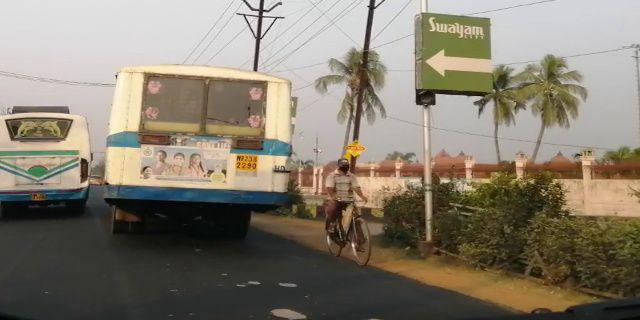Bus: (98, 61, 294, 242), (1, 104, 95, 214)
Cycle: (316, 155, 380, 269)
